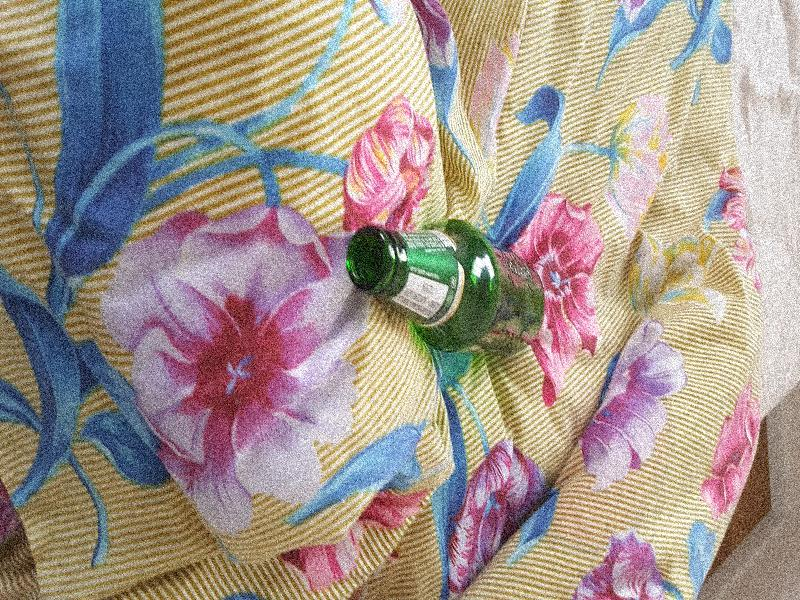Beer: (346, 220, 543, 348)
